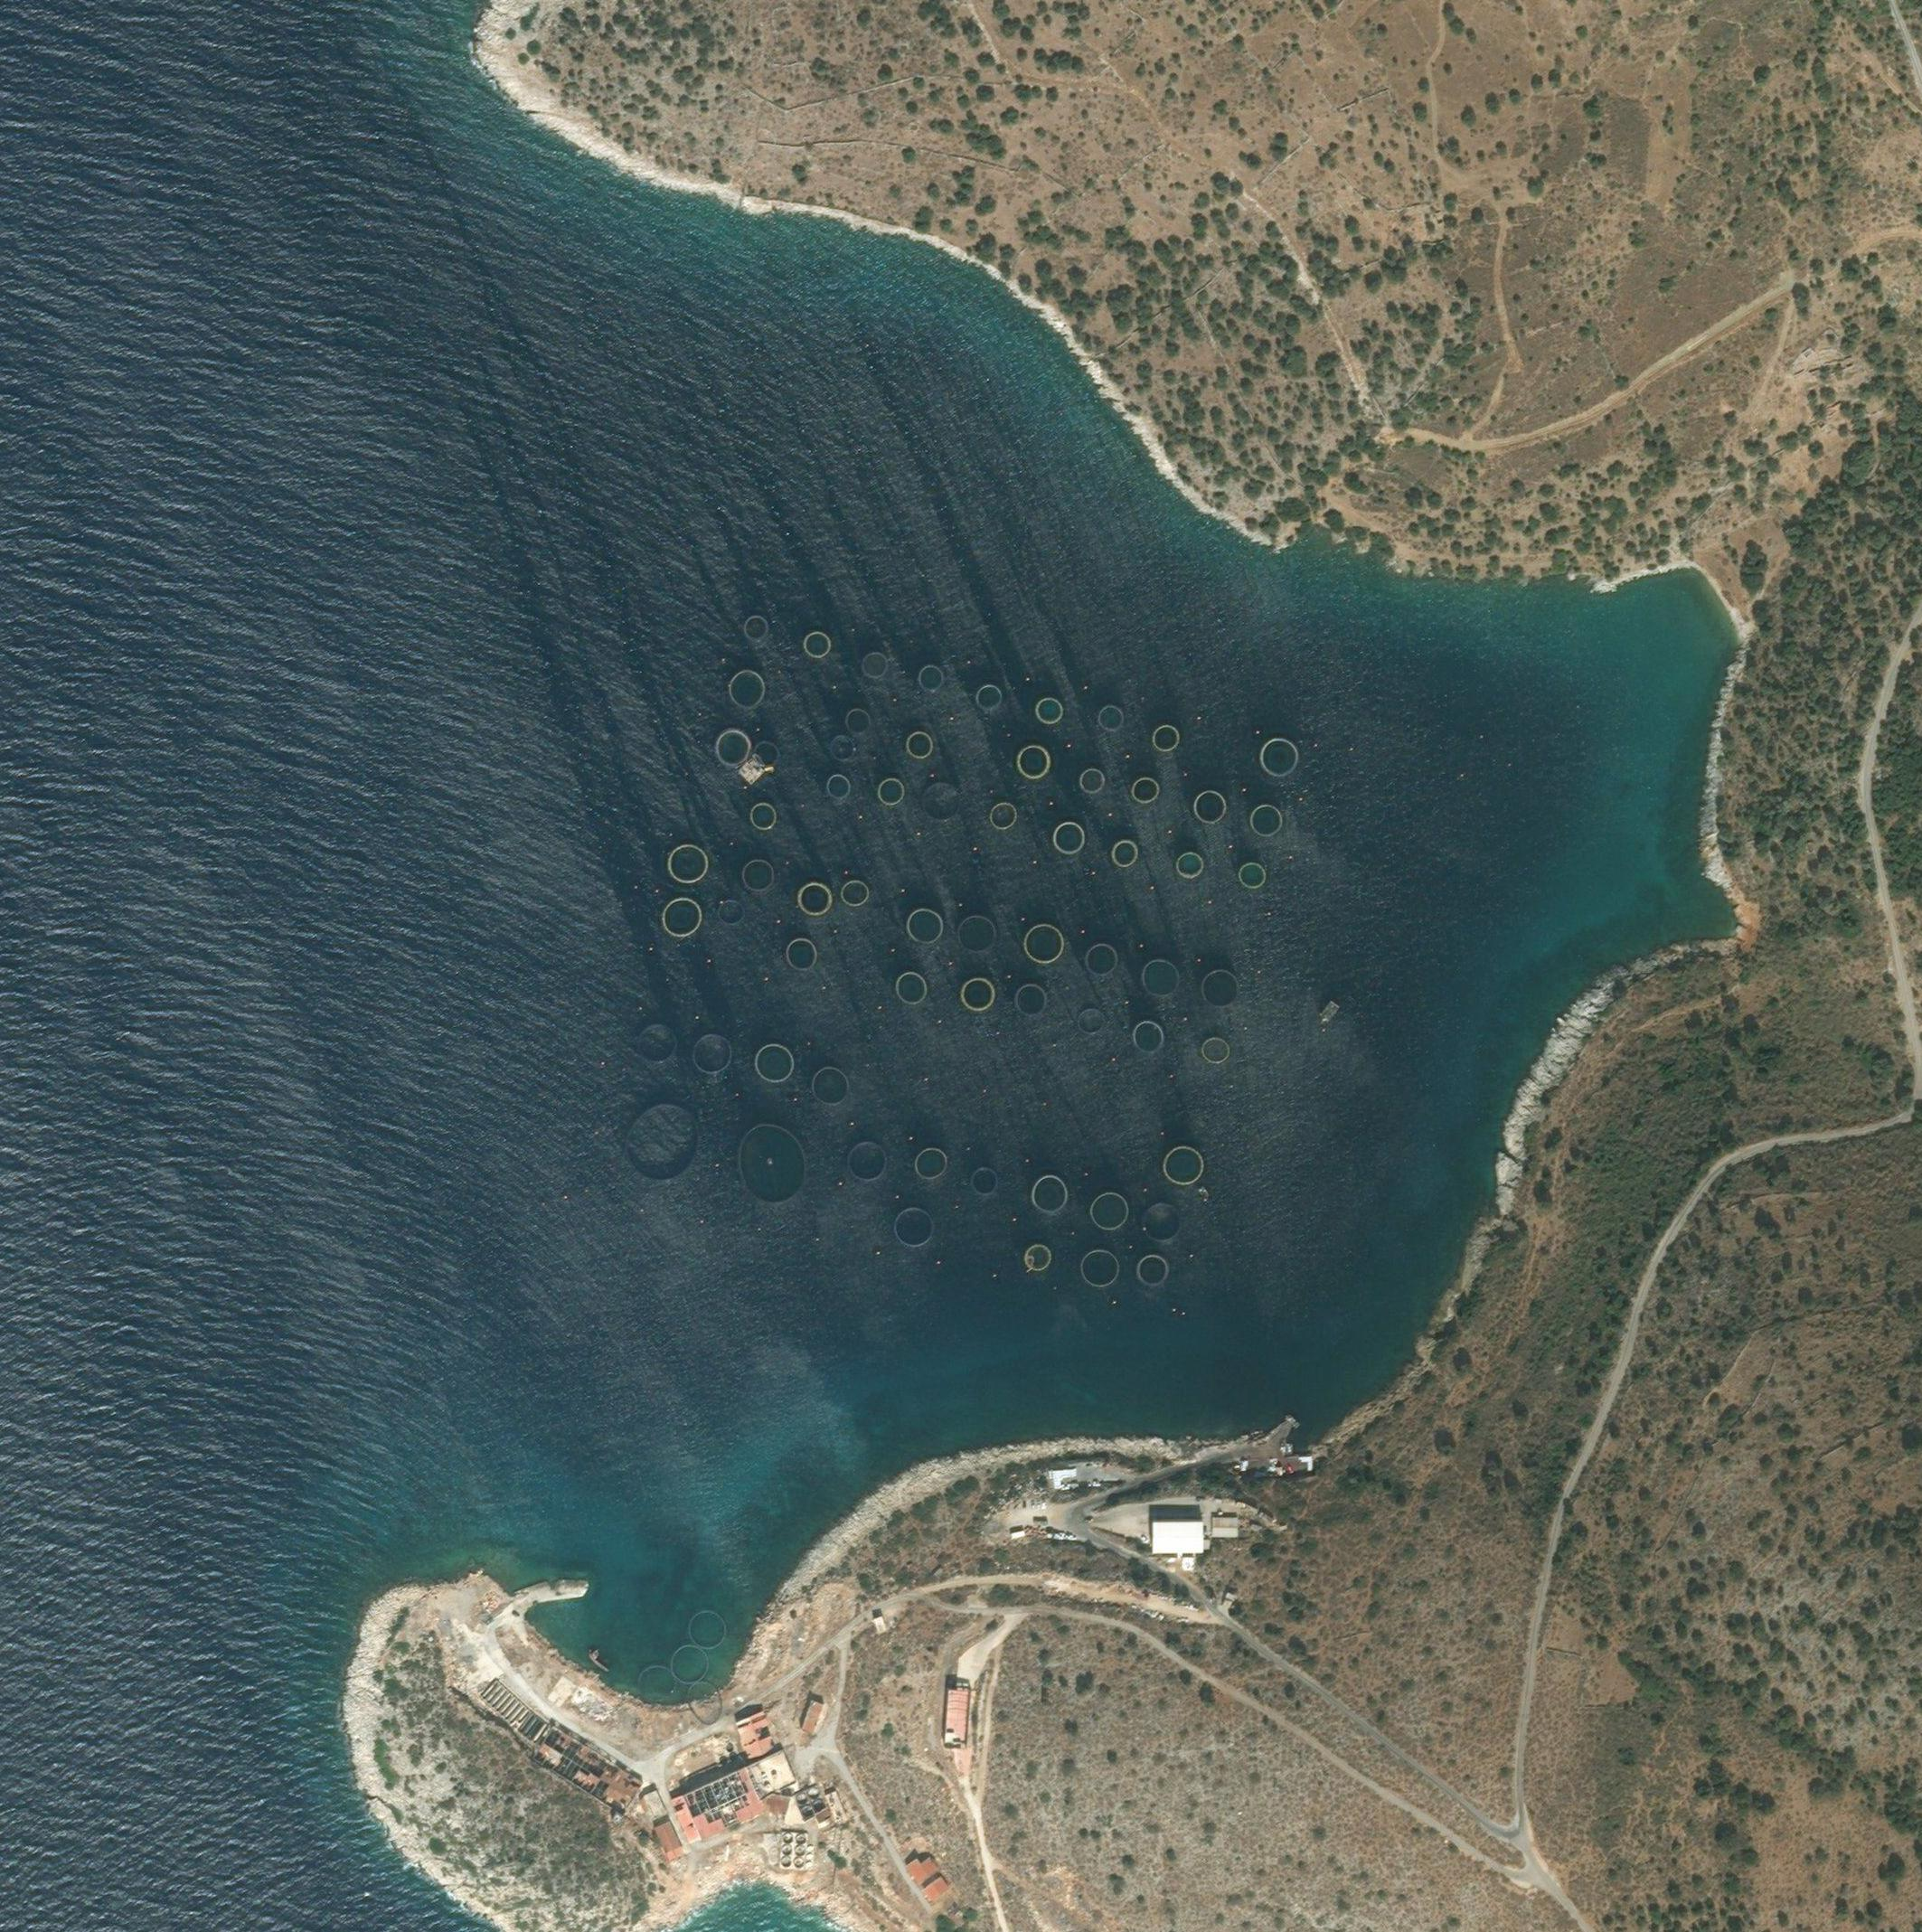c: (623, 1101, 702, 1181), (737, 1121, 808, 1204), (892, 1205, 936, 1249), (690, 1031, 732, 1075), (665, 843, 708, 885), (922, 778, 963, 822), (637, 1024, 678, 1066), (753, 1042, 794, 1084), (1023, 924, 1065, 964), (956, 913, 998, 954), (848, 1138, 887, 1182), (1163, 1145, 1204, 1186), (662, 897, 702, 938), (1031, 1174, 1070, 1216), (1260, 737, 1299, 778), (811, 1066, 850, 1107), (1200, 970, 1241, 1008), (729, 667, 766, 709), (1089, 1193, 1128, 1232), (1141, 959, 1179, 998), (1081, 1249, 1118, 1288), (1144, 1202, 1181, 1240), (1016, 743, 1051, 779), (1135, 1253, 1172, 1288), (799, 626, 834, 662), (797, 882, 834, 915), (1053, 820, 1086, 855), (1250, 802, 1283, 838), (1132, 1019, 1165, 1054), (1084, 941, 1119, 975), (1014, 984, 1047, 1017), (961, 978, 996, 1010), (739, 860, 774, 892), (913, 1149, 949, 1181), (968, 1165, 1001, 1197), (785, 938, 817, 971), (1195, 790, 1227, 822), (1237, 860, 1269, 892), (987, 801, 1019, 831), (1023, 1242, 1053, 1274), (840, 878, 871, 908), (905, 730, 935, 760), (1111, 839, 1141, 869), (915, 662, 943, 693), (859, 651, 889, 679), (973, 684, 1003, 713), (748, 802, 778, 831), (1097, 704, 1125, 734), (1077, 765, 1105, 795), (1174, 850, 1204, 878), (1200, 1036, 1230, 1065), (1130, 776, 1160, 804), (1035, 695, 1061, 727), (743, 614, 771, 642), (825, 772, 854, 801), (845, 706, 871, 735), (878, 776, 905, 806), (1077, 1008, 1107, 1035), (827, 735, 855, 762), (1151, 723, 1177, 751)
